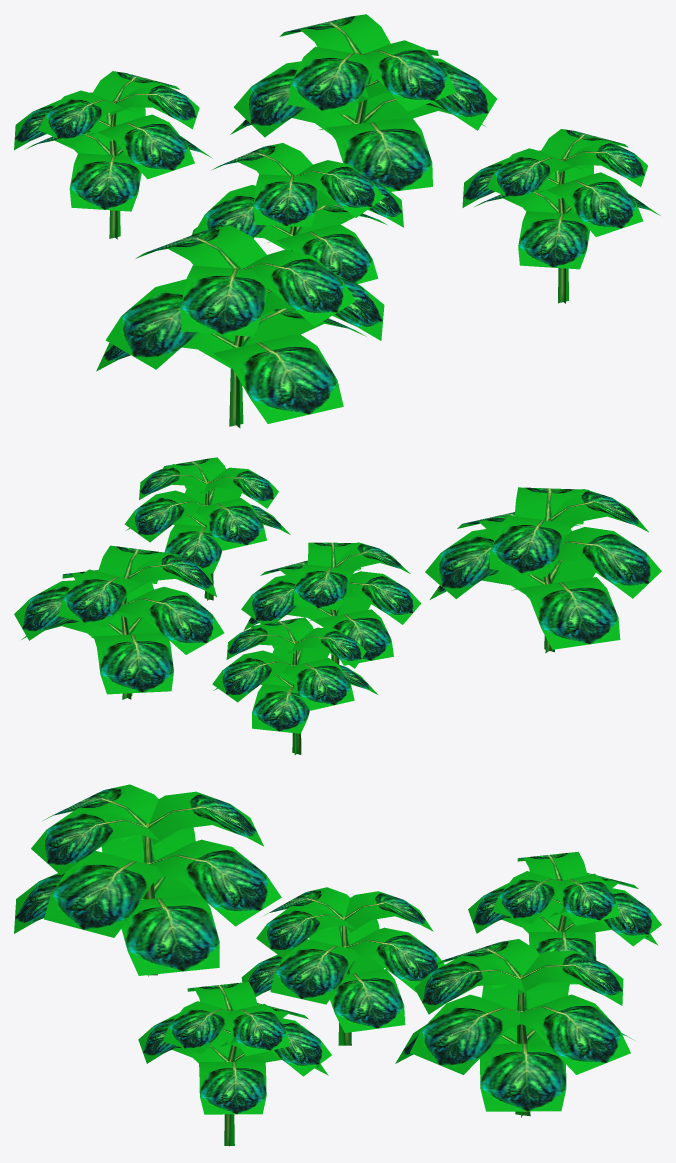
File: INST_MIRK_PLANT_BROADLEAF_GROUP.fbx
The picture shows the model from 3 angles, top to bottom: view 1: azimuth 30°, elevation 25°; view 2: azimuth 150°, elevation 25°; view 3: azimuth 270°, elevation 25°; orthographic projection. The views are drawn at different scales.
Parts seen in each view (by area): view 1: INST_MIRK_PLANT_BROADLEAF_GROUP; view 2: INST_MIRK_PLANT_BROADLEAF_GROUP; view 3: INST_MIRK_PLANT_BROADLEAF_GROUP.
Boxes of the visible parts, x1=… form: INST_MIRK_PLANT_BROADLEAF_GROUP: x1=14, y1=14, x2=660, y2=428; INST_MIRK_PLANT_BROADLEAF_GROUP: x1=14, y1=457, x2=661, y2=754; INST_MIRK_PLANT_BROADLEAF_GROUP: x1=14, y1=784, x2=661, y2=1146.
Size of the model in its own units: 68897 by 19555 by 70502.
1 material, 1 textured.
